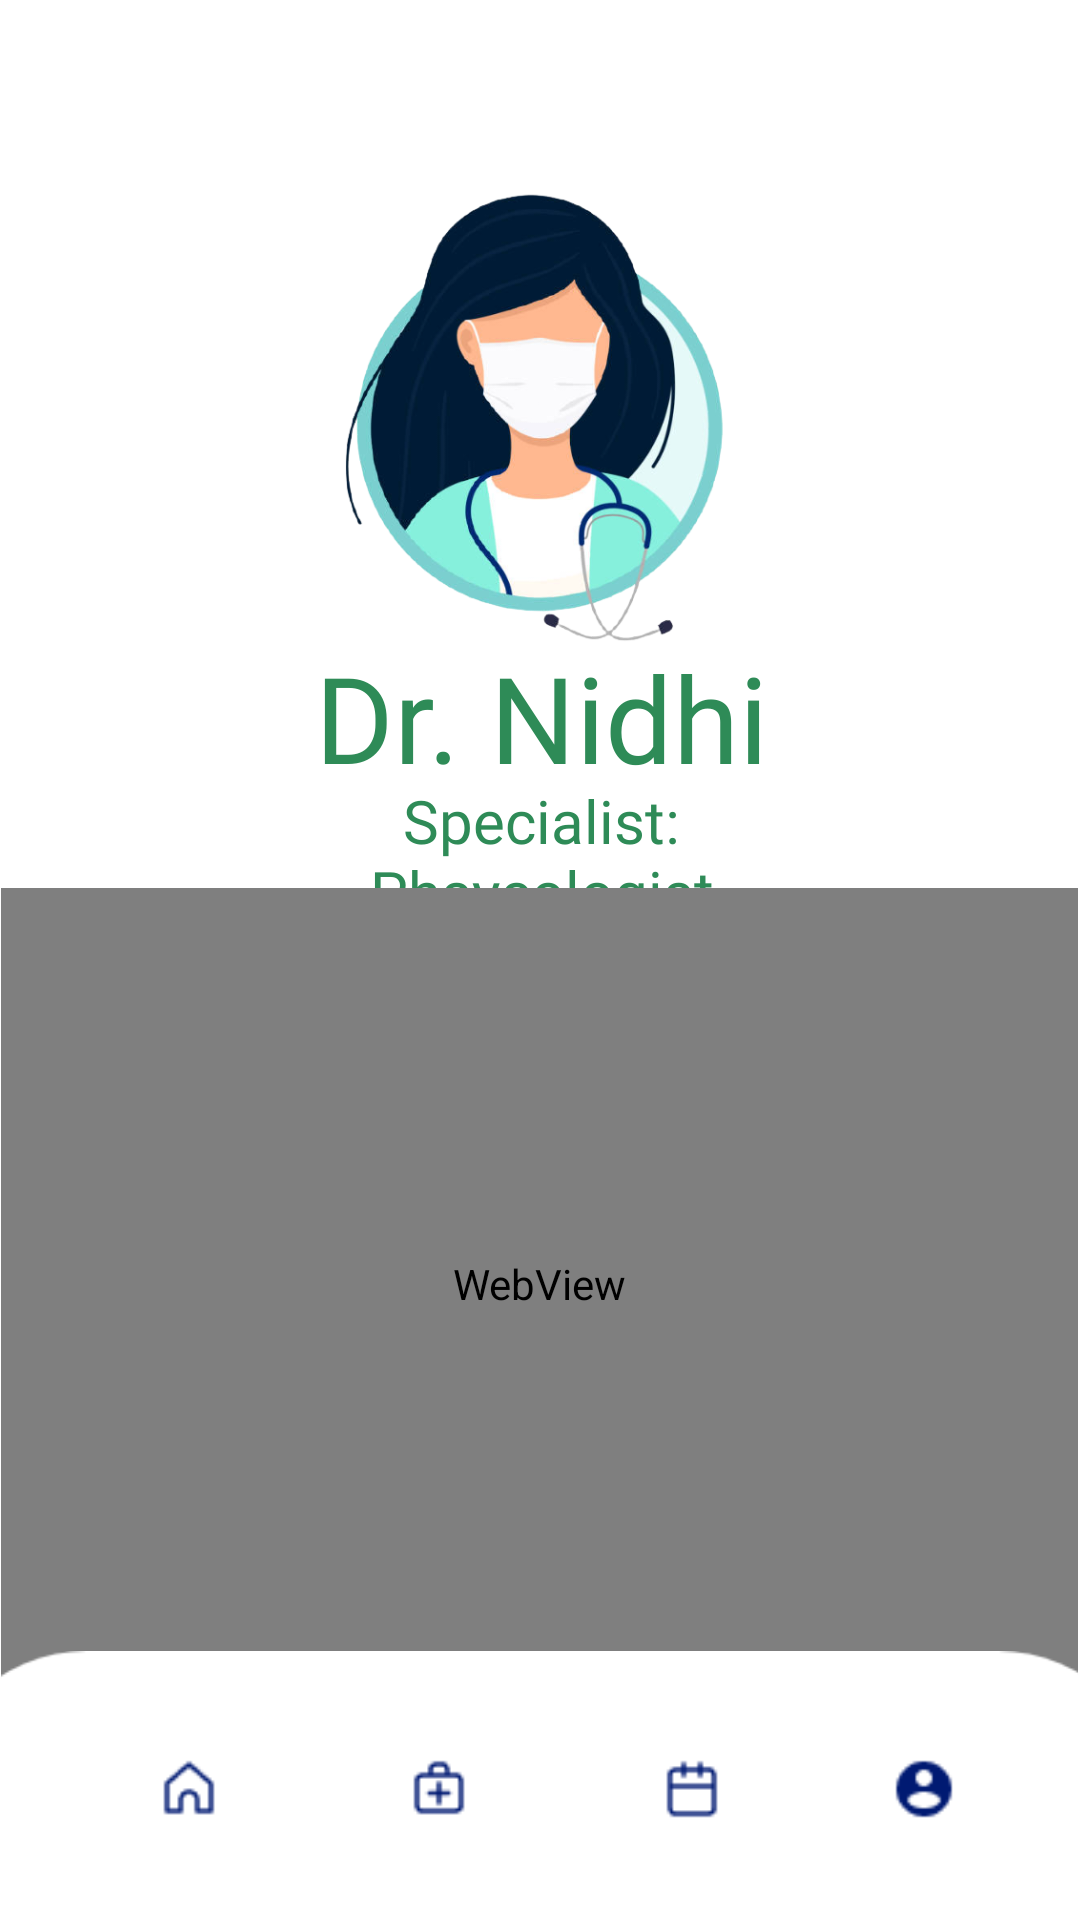

Where icons sit on this 1080x1920 app screen, as (x1, y1, x2, y2):
calendar: (666, 1761, 718, 1818)
filluser: (895, 1760, 953, 1818)
home: (163, 1761, 215, 1815)
medkit: (413, 1760, 465, 1815)
